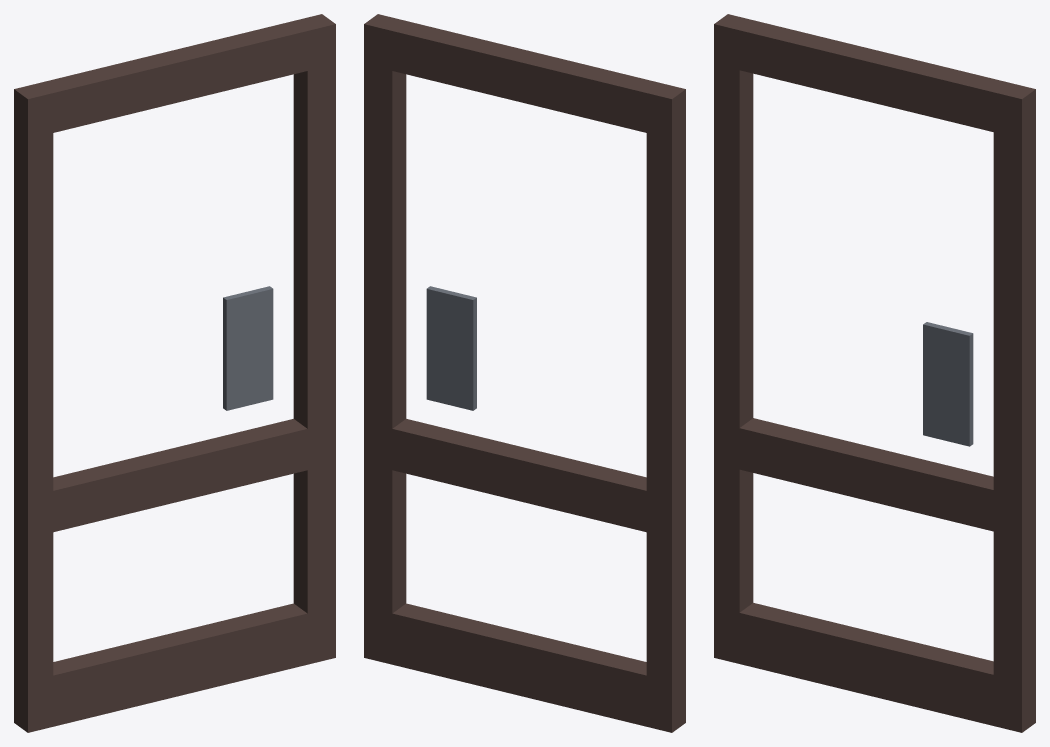
File: SM_Bld_Shopfront_Door_05.obj
3 views of the same model, side by side, from view 1: azimuth 30°, elevation 25°; view 2: azimuth 150°, elevation 25°; view 3: azimuth 330°, elevation 25° (orthographic).
Visible parts, largest first — view 1: SM_Bld_Shopfront_Door_05_0; view 2: SM_Bld_Shopfront_Door_05_0; view 3: SM_Bld_Shopfront_Door_05_0.
Part boxes in pixels (<box>): SM_Bld_Shopfront_Door_05_0: <box>14,14,335,732</box>; SM_Bld_Shopfront_Door_05_0: <box>364,14,685,732</box>; SM_Bld_Shopfront_Door_05_0: <box>714,14,1035,732</box>.
Size of the model in its own units: 1 by 1.97 by 0.0778.
Materials: 1 (1 with a texture image).
